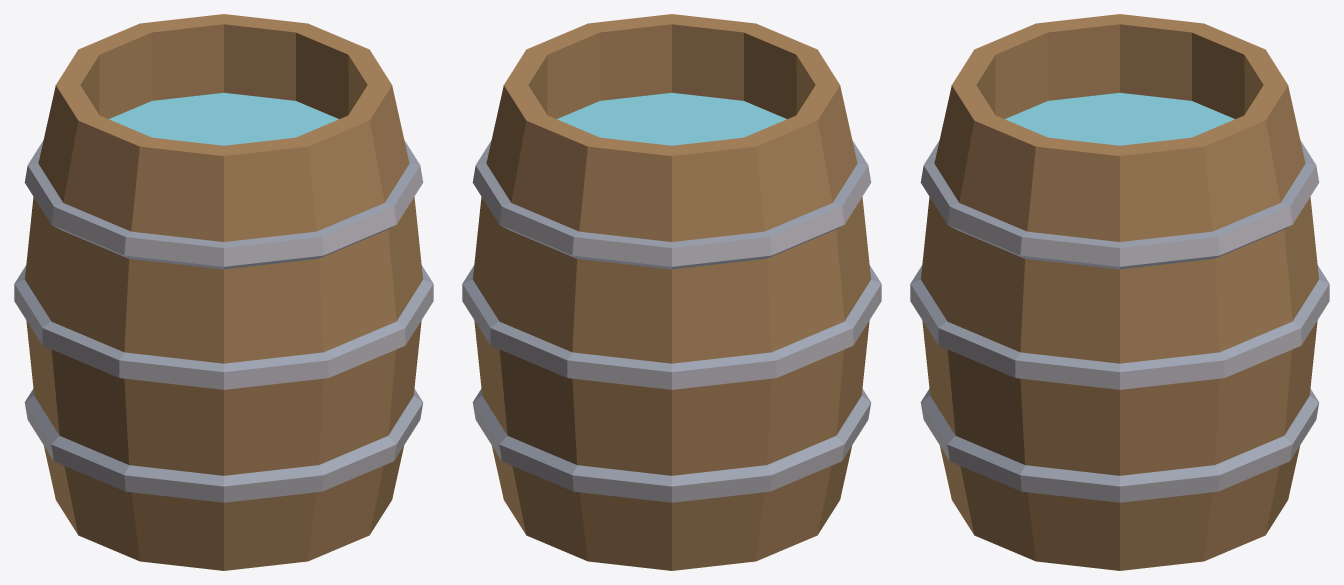
The model's file is barrel_water.glb.
3 views of the same model, side by side, from view 1: azimuth 30°, elevation 25°; view 2: azimuth 150°, elevation 25°; view 3: azimuth 270°, elevation 25° (orthographic).
Parts seen in each view (by area): view 1: barrel_water; view 2: barrel_water; view 3: barrel_water.
Part boxes in pixels (bbox=[...]): barrel_water: bbox=[14, 14, 433, 570]; barrel_water: bbox=[462, 14, 881, 570]; barrel_water: bbox=[910, 14, 1329, 570].
Size of the model in its own units: 3.8 by 4.15 by 3.8.
Materials: 1 (1 with a texture image).
